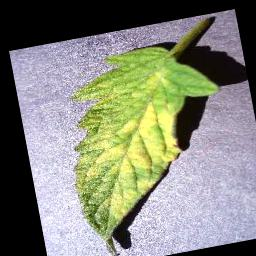Leaf_Mold: (54, 58, 201, 242)
